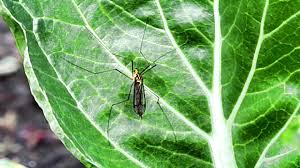Helopeltis-insect: (130, 66, 149, 118)
